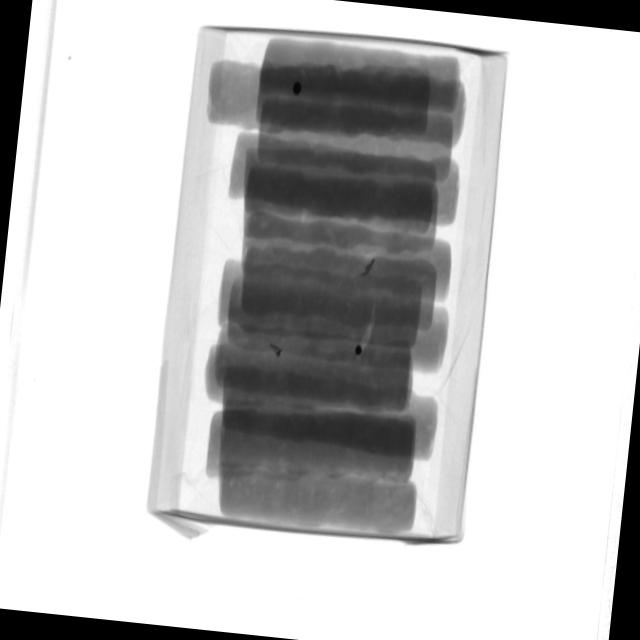ym: (362, 257, 375, 277), (269, 343, 283, 358), (293, 83, 303, 98), (355, 345, 363, 356)
